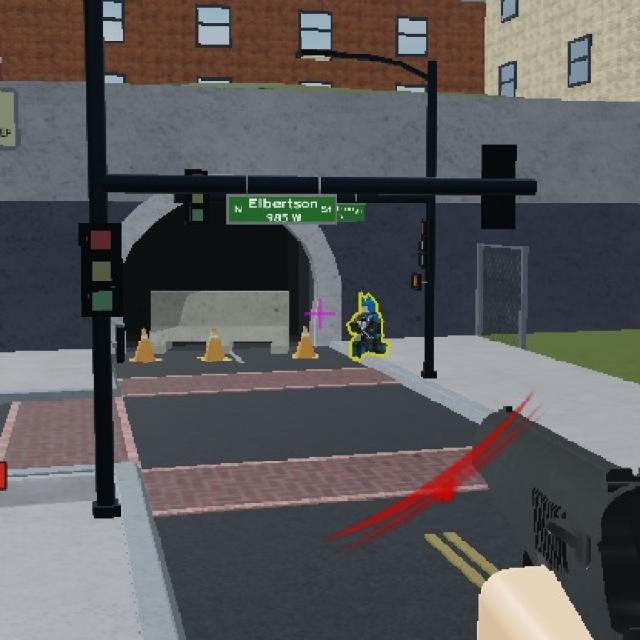player: (352, 288, 386, 362)
